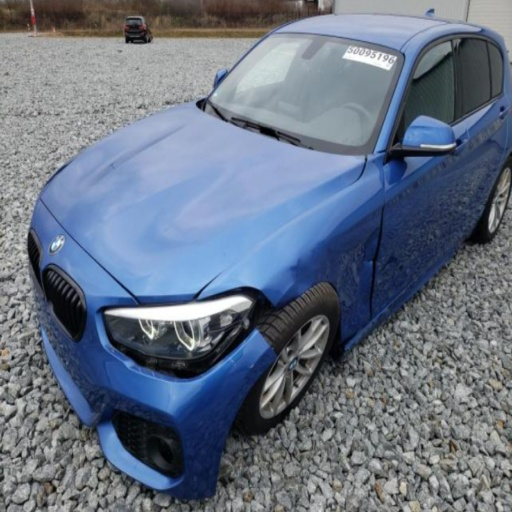dent: (286, 226, 377, 316)
